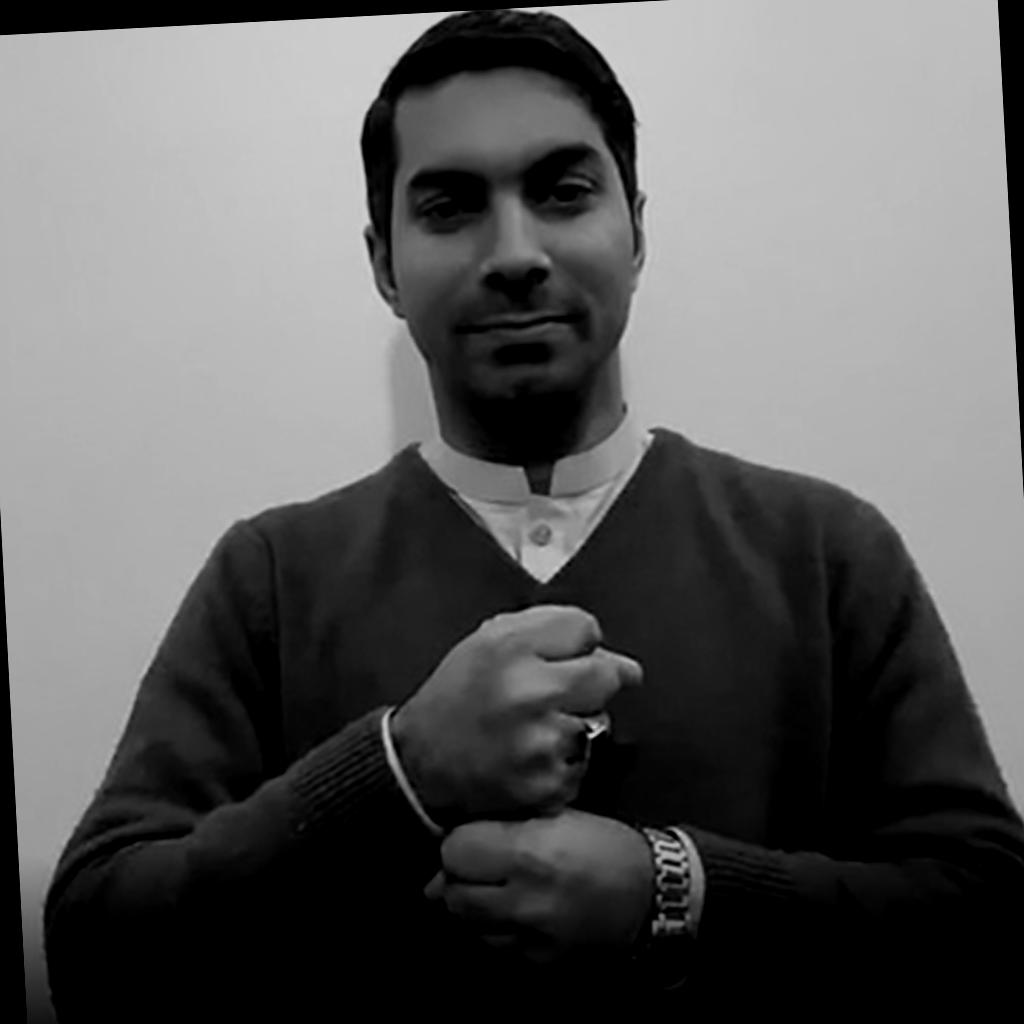get: (406, 600, 661, 1009)
